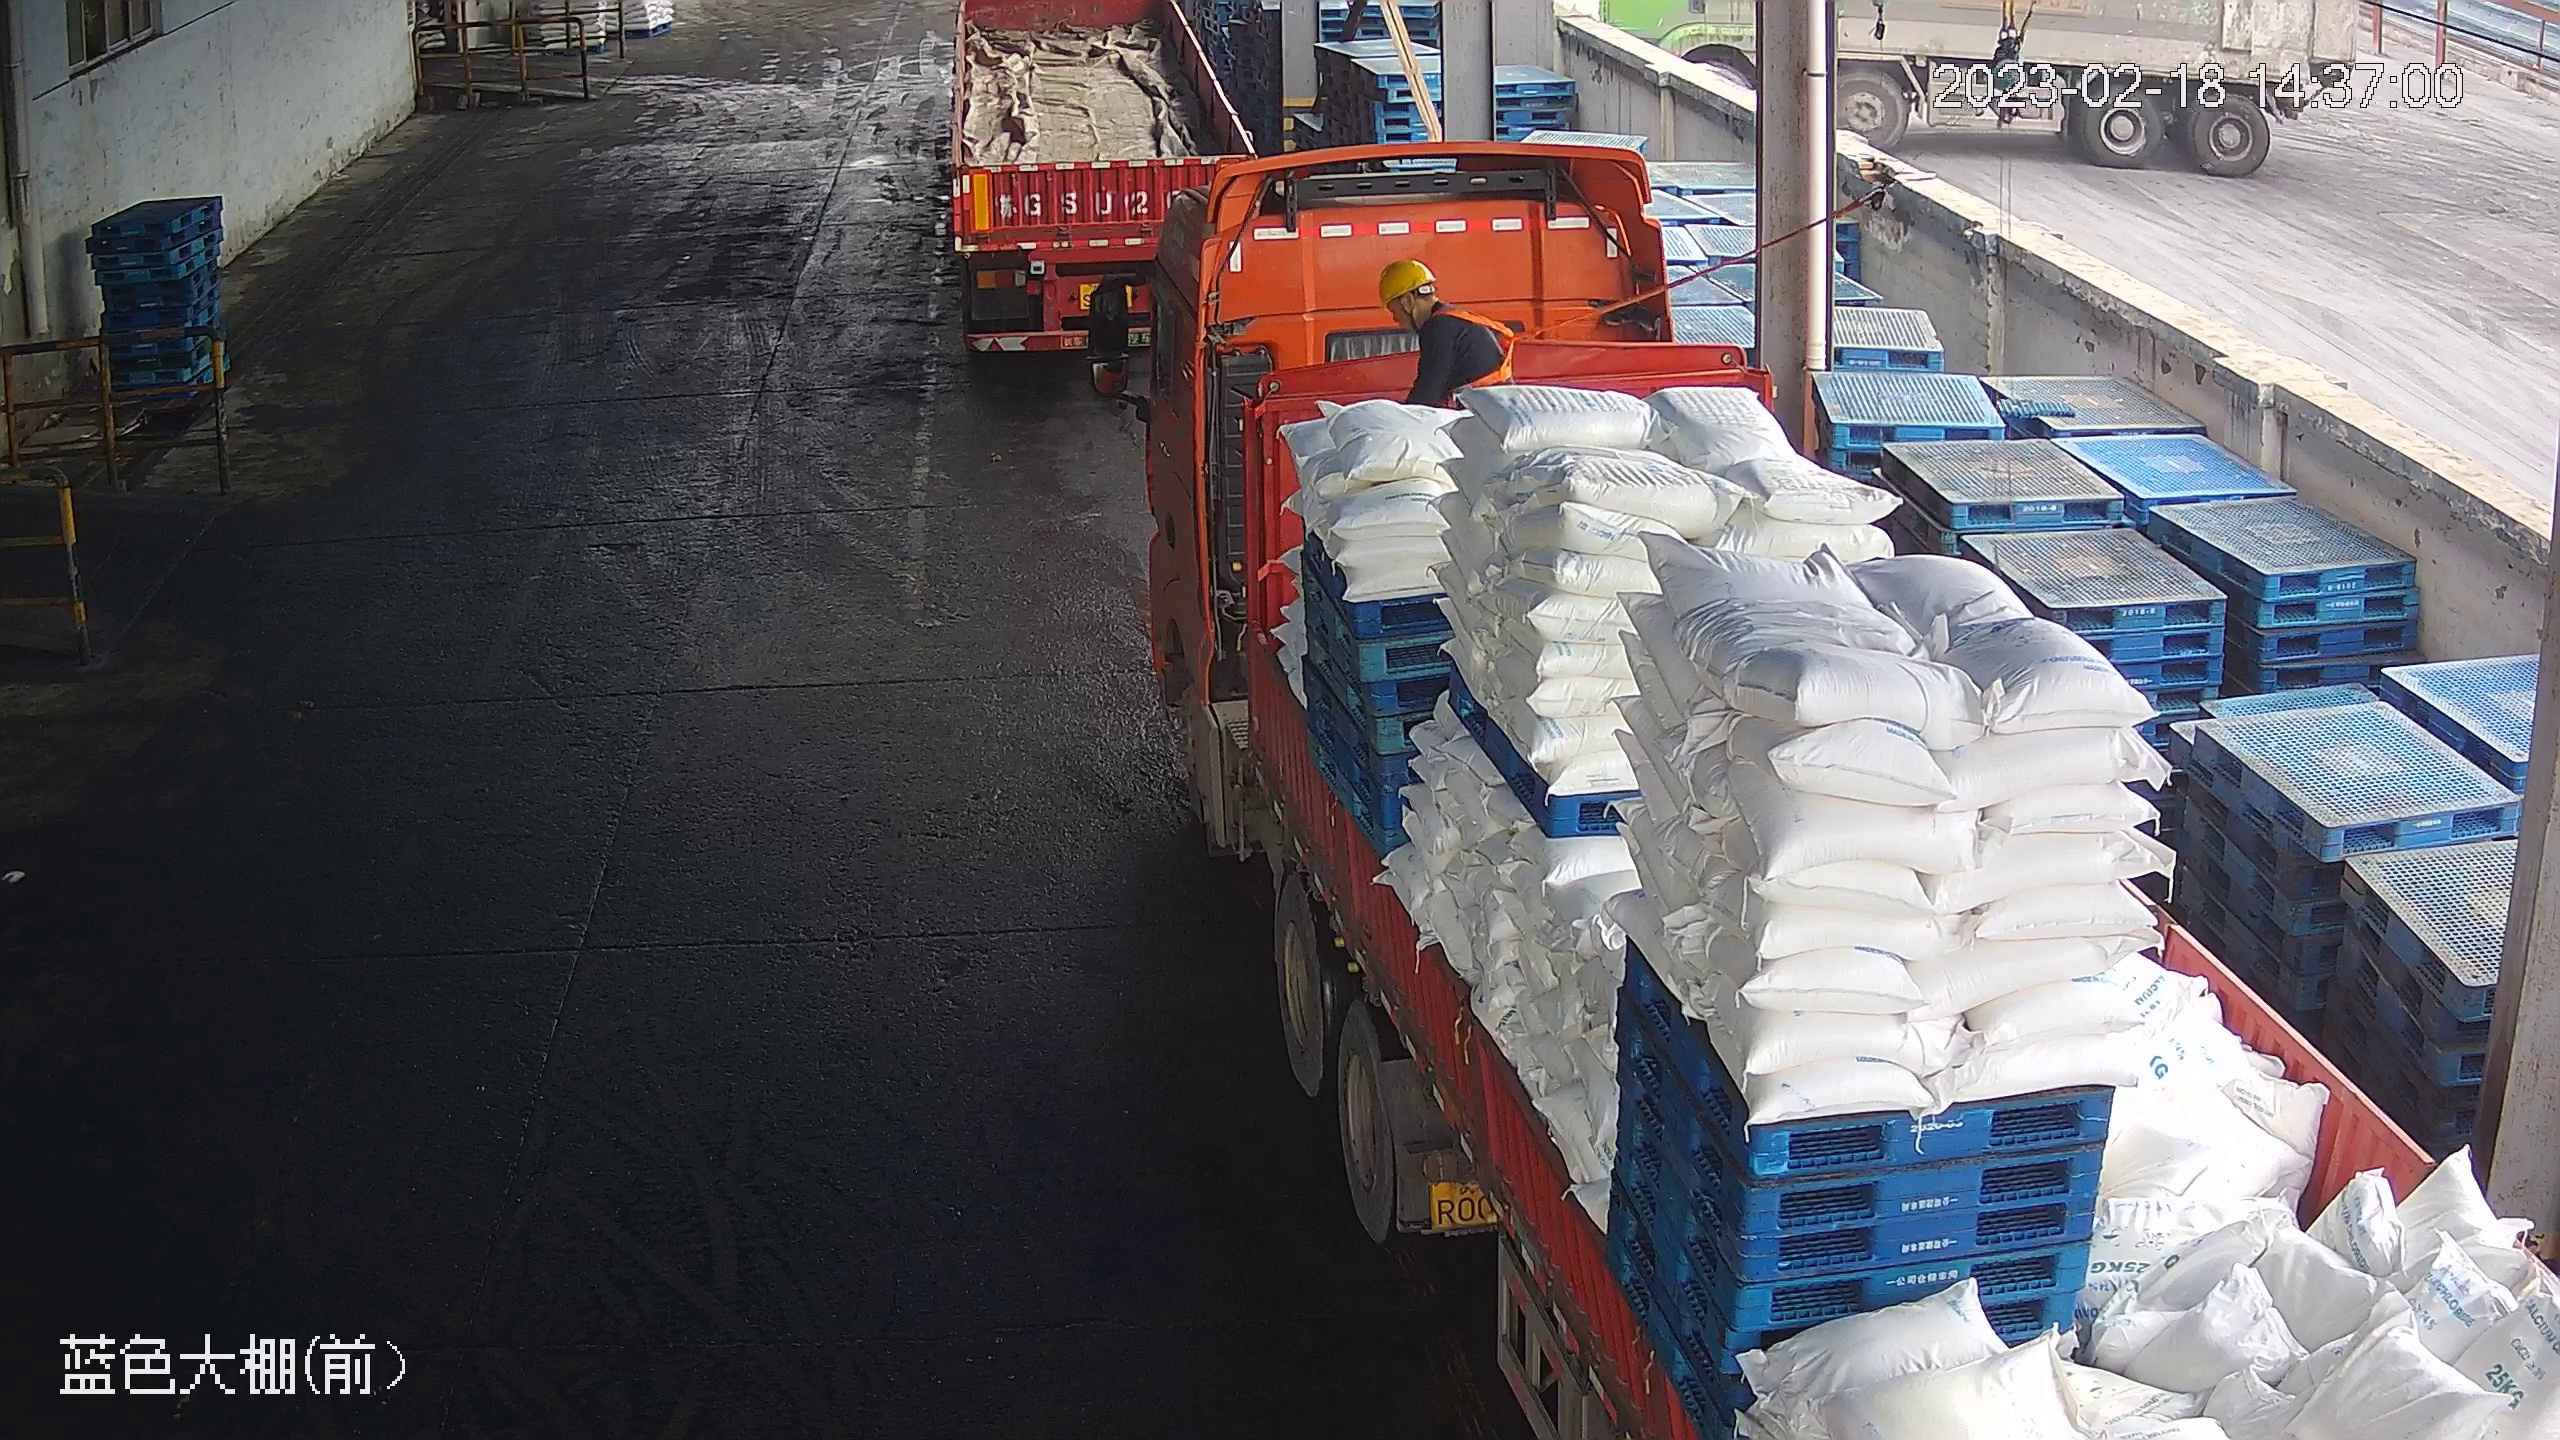belt: (1436, 299, 1523, 389)
head: (1376, 255, 1479, 348)
helmet: (1374, 254, 1440, 307)
truck: (1090, 130, 2560, 1440), (945, 1, 1271, 370)
